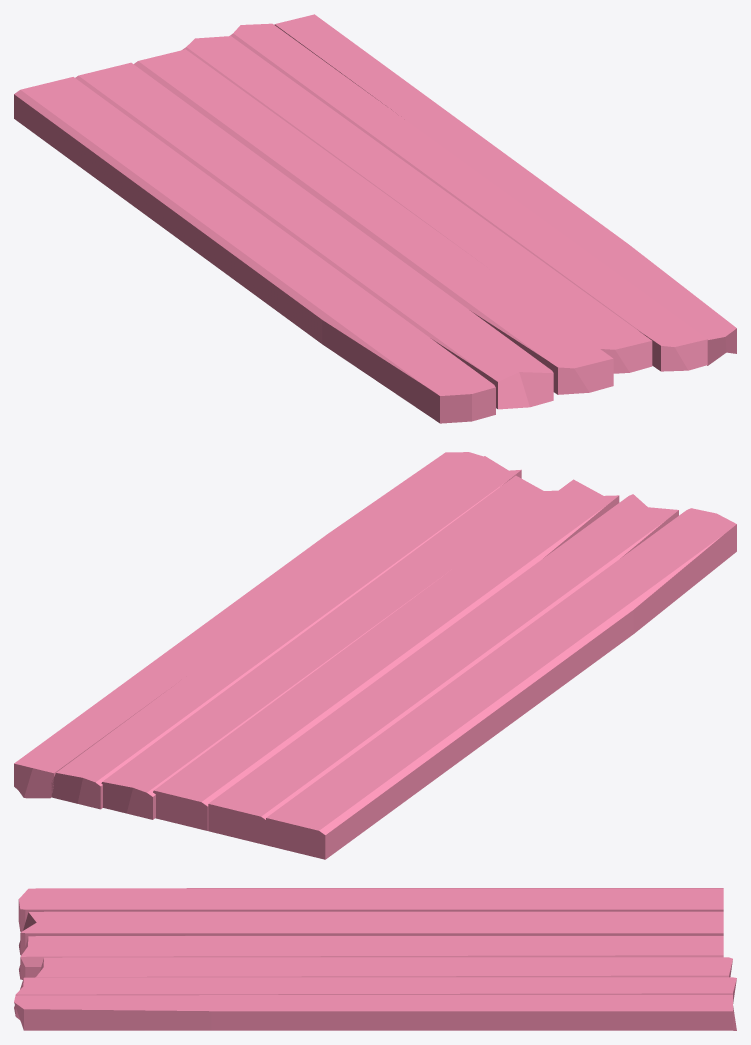
File: Lonk Planks.fbx
3 views of the same model, one above another, from view 1: azimuth 30°, elevation 25°; view 2: azimuth 150°, elevation 25°; view 3: azimuth 270°, elevation 25° (orthographic). The views are drawn at different scales.
Parts seen in each view (by area): view 1: Long Planks; view 2: Long Planks; view 3: Long Planks.
Boxes of the visible parts, left/top/right/bottom form: Long Planks: left=14, top=14, right=736, bottom=423; Long Planks: left=14, top=452, right=736, bottom=859; Long Planks: left=14, top=888, right=736, bottom=1030.
Bounding box in the file's own units: 690 × 74.74 × 1699.
